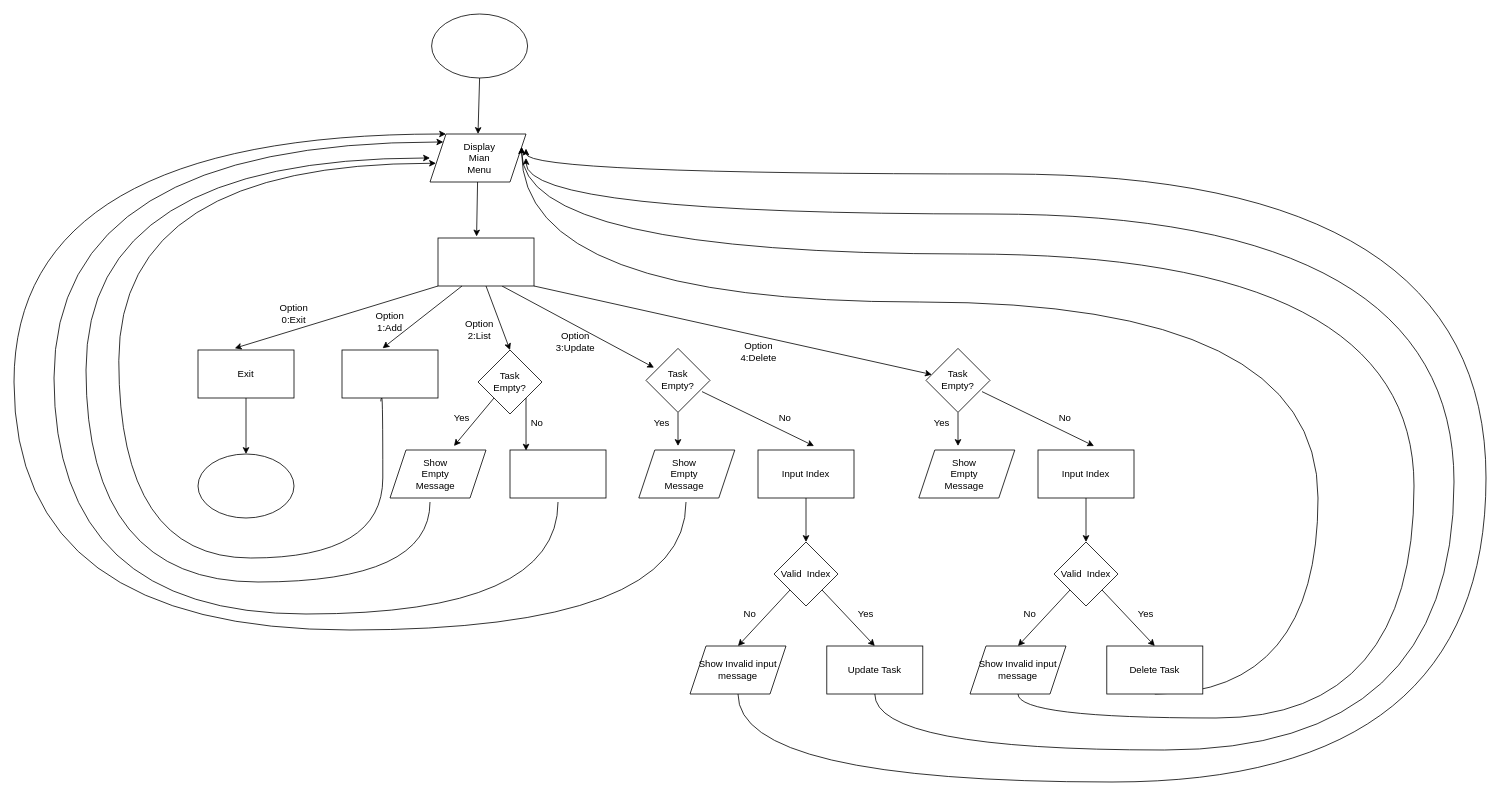
Image size: 1500x796. Some labels were removed from this diagram. The centre of each missing label's shape, as x and y in pixels:
"add_task" goes at point (389, 373).
"list_tasks" goes at point (557, 473).
"Select Option" goes at point (485, 261).
"Start" goes at point (479, 45).
"Stop" goes at point (245, 485).
